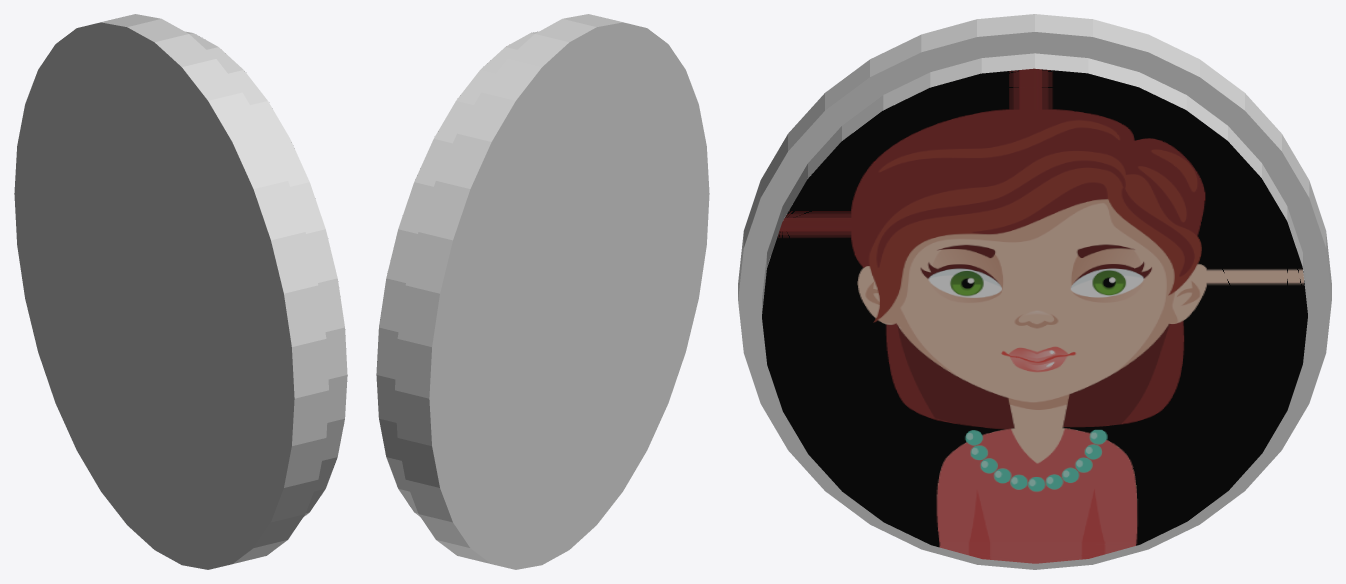
File: wife 2.gltf
The picture shows the model from 3 angles, left to right: view 1: azimuth 30°, elevation 25°; view 2: azimuth 150°, elevation 25°; view 3: azimuth 270°, elevation 25°; orthographic projection. The views are drawn at different scales.
Visible parts, largest first — view 1: Cylinder.030, Cylinder.031; view 2: Cylinder.030, Cylinder.031; view 3: Cylinder.032, Cylinder.031, Cylinder.030.
Boxes of the visible parts, left/top/right/bottom form: Cylinder.030: left=14, top=14, right=328, bottom=569; Cylinder.031: left=185, top=31, right=347, bottom=516; Cylinder.030: left=395, top=14, right=709, bottom=569; Cylinder.031: left=376, top=31, right=538, bottom=516; Cylinder.032: left=762, top=68, right=1307, bottom=563; Cylinder.031: left=738, top=32, right=1331, bottom=569; Cylinder.030: left=738, top=14, right=1331, bottom=299.
Size of the model in its own units: 0.8839 by 6.68 by 6.68.
Materials: 1 (1 with a texture image).
